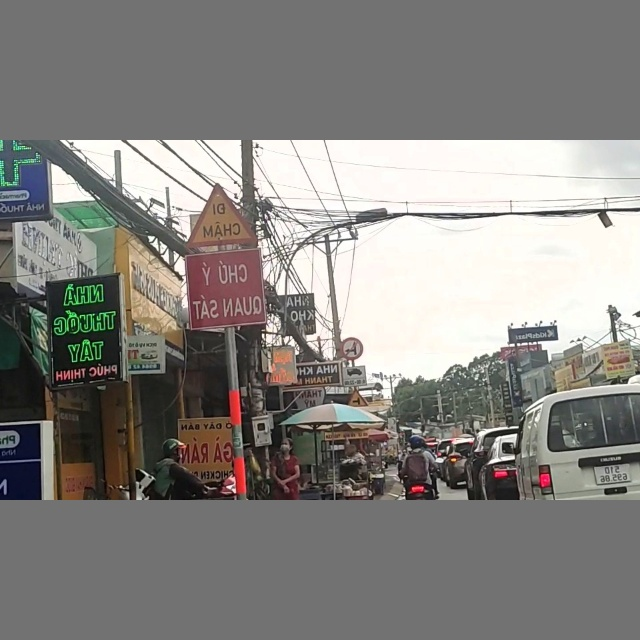P.139: (335, 333, 365, 362)
S.505a*Xe tai: (342, 367, 366, 386)
W.205b: (342, 389, 373, 409)
W.245a: (179, 184, 256, 249)
